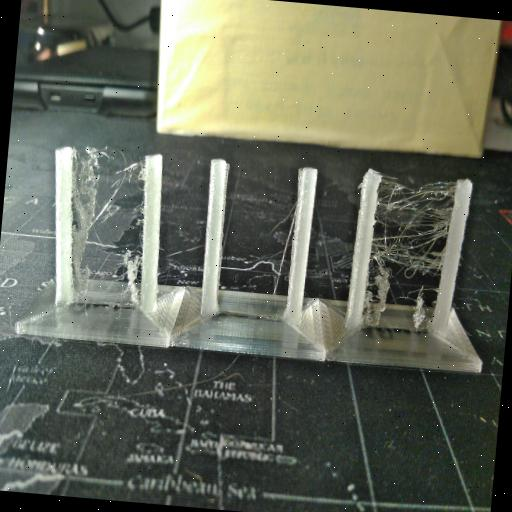stringing: (364, 172, 452, 334), (58, 146, 112, 312), (104, 150, 150, 314)
